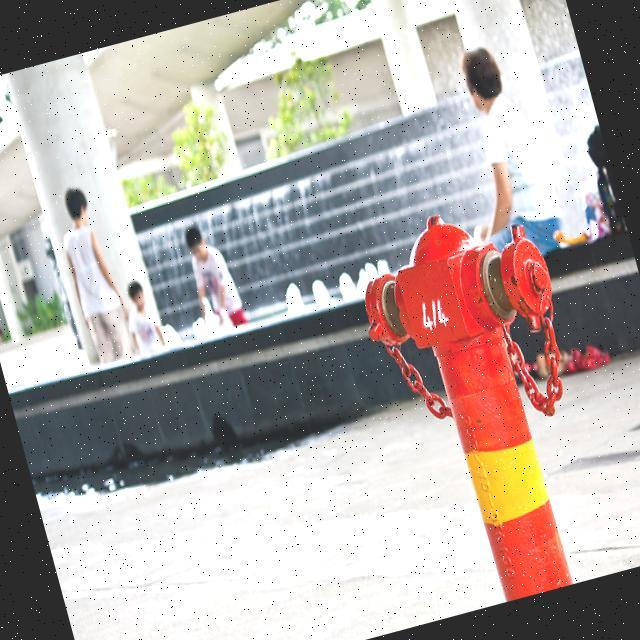fire_hydrant: (344, 189, 628, 613)
